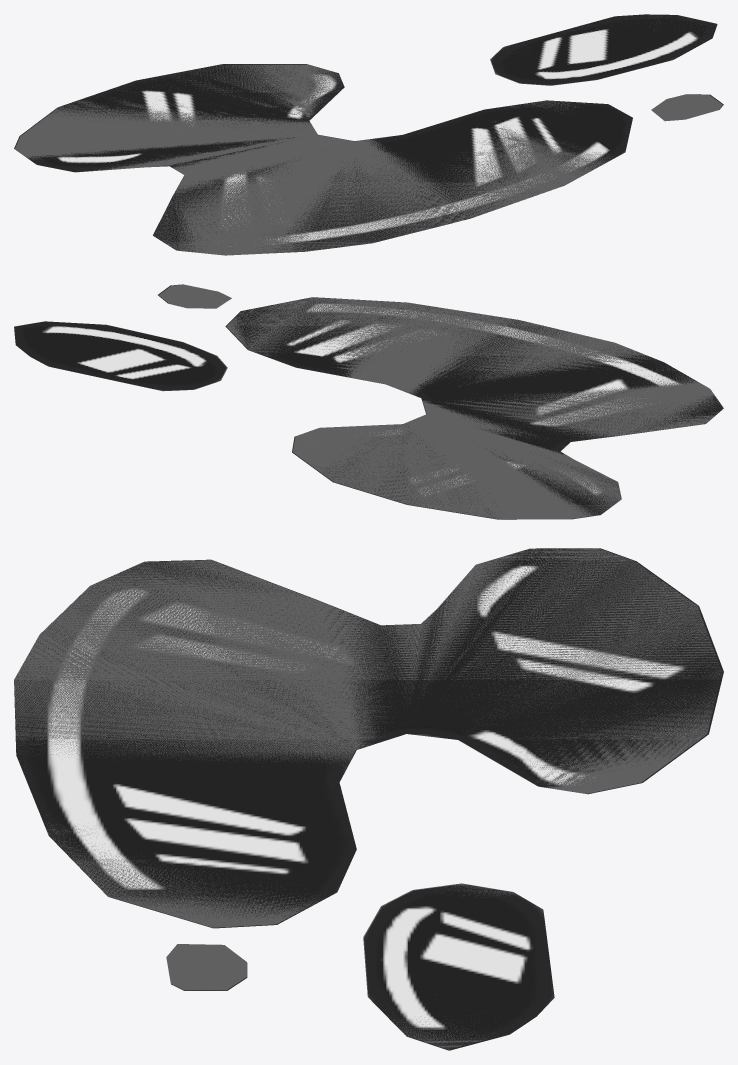
The model's file is oilslick.fbx.
The picture shows the model from 3 angles, top to bottom: view 1: azimuth 30°, elevation 25°; view 2: azimuth 150°, elevation 25°; view 3: azimuth 270°, elevation 25°; orthographic projection. The views are drawn at different scales.
Parts seen in each view (by area): view 1: Col, slick1_, slick2_; view 2: Col, slick1_, slick2_; view 3: slick1_, Col, slick2_.
Boxes of the visible parts, <box> form: Col: <box>15,16,722,255</box>; slick1_: <box>14,64,632,255</box>; slick2_: <box>490,14,717,85</box>; Col: <box>106,284,721,519</box>; slick1_: <box>225,297,723,519</box>; slick2_: <box>14,321,226,391</box>; slick1_: <box>14,548,723,928</box>; Col: <box>14,548,721,1049</box>; slick2_: <box>364,884,554,1050</box>.
Bounding box in the file's own units: 3.68 × 3.65e-07 × 2.2.
Materials: 1 (1 with a texture image).
